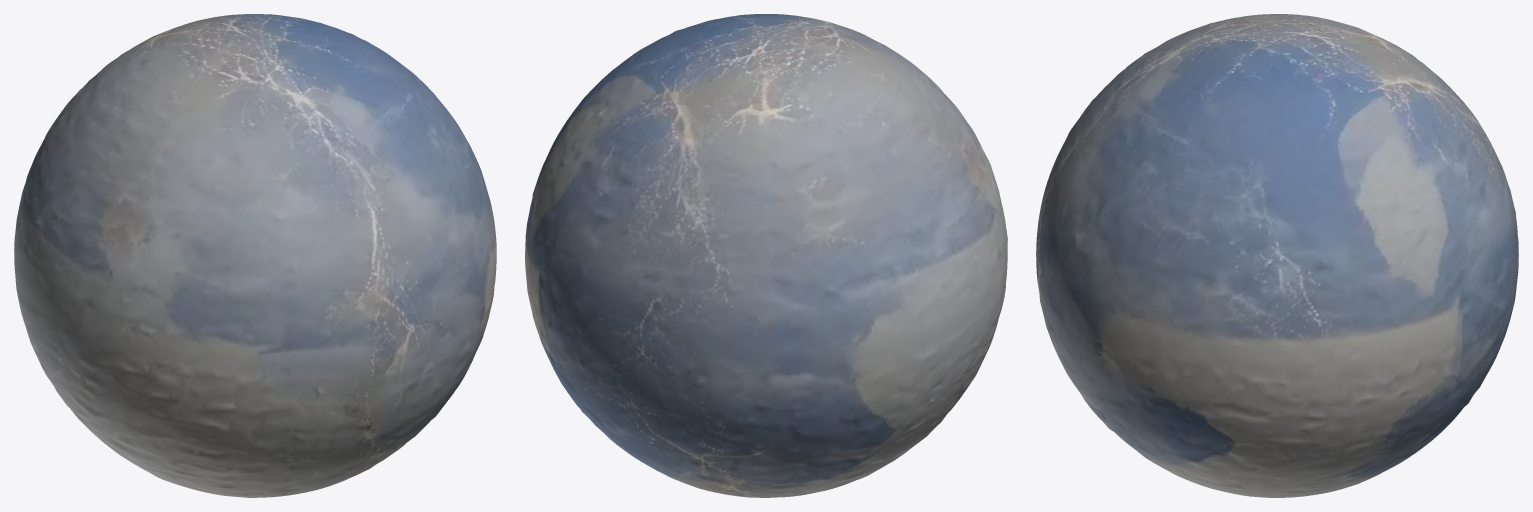
The model's file is cinematic-storm-sphere.optimized.glb.
3 views of the same model, side by side, from view 1: azimuth 30°, elevation 25°; view 2: azimuth 150°, elevation 25°; view 3: azimuth 270°, elevation 25° (orthographic).
Visible parts, largest first — view 1: tripo_node_38c8cc3b-7251-4d0c-9a43-b8fa8c489f6c; view 2: tripo_node_38c8cc3b-7251-4d0c-9a43-b8fa8c489f6c; view 3: tripo_node_38c8cc3b-7251-4d0c-9a43-b8fa8c489f6c.
Boxes of the visible parts, left/top/right/bottom form: tripo_node_38c8cc3b-7251-4d0c-9a43-b8fa8c489f6c: left=14, top=14, right=496, bottom=497; tripo_node_38c8cc3b-7251-4d0c-9a43-b8fa8c489f6c: left=525, top=14, right=1007, bottom=497; tripo_node_38c8cc3b-7251-4d0c-9a43-b8fa8c489f6c: left=1036, top=14, right=1518, bottom=497.
Size of the model in its own units: 0.9911 by 0.9999 by 0.9922.
Materials: 1 (1 with a texture image).
